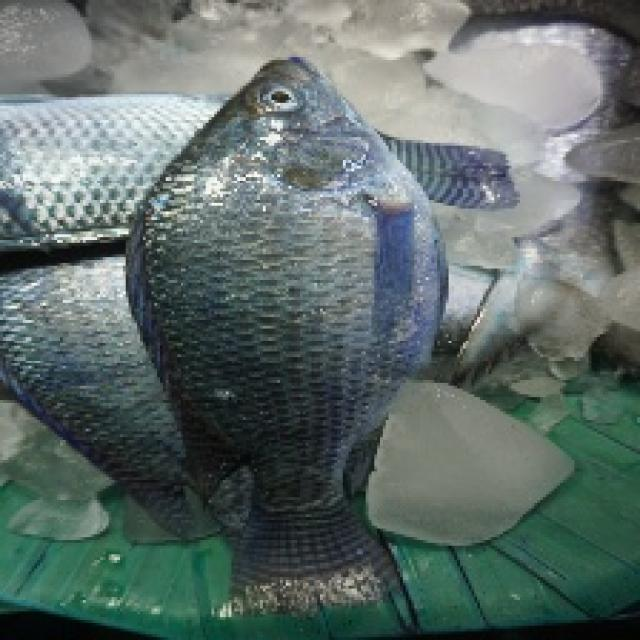Fresh: (132, 46, 460, 511)
